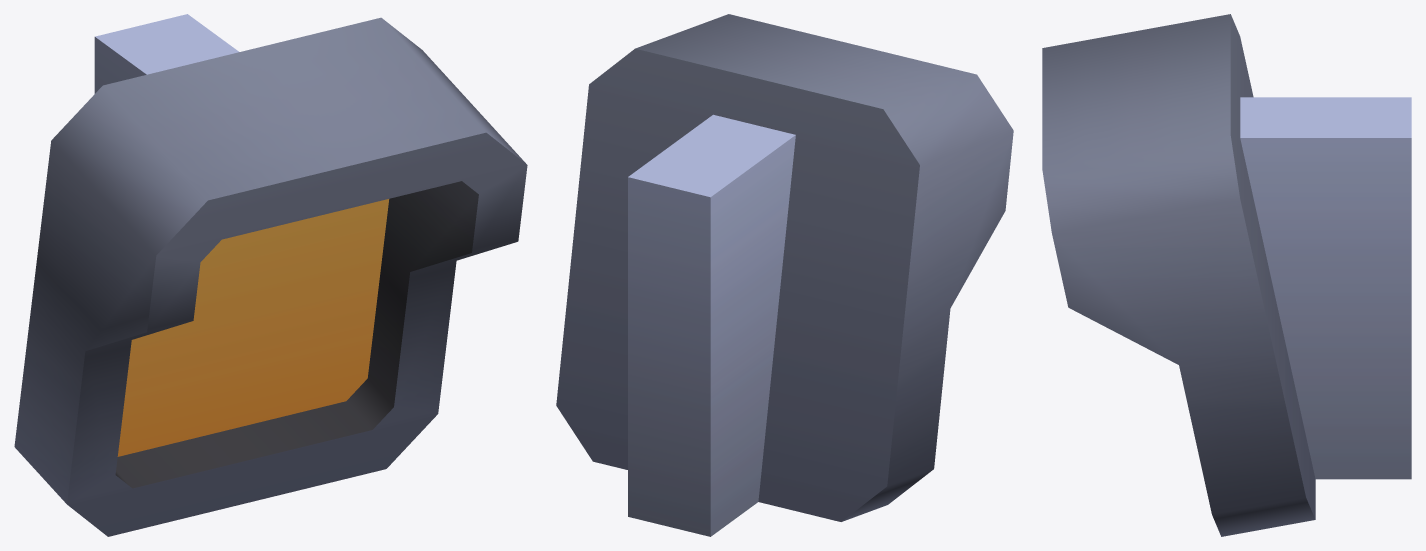
The model's file is kenney-space-station-display-wall.glb.
3 renders of one model, left to right at view 1: azimuth 30°, elevation 25°; view 2: azimuth 150°, elevation 25°; view 3: azimuth 270°, elevation 25°, orthographic. The views are drawn at different scales.
Visible parts, largest first — view 1: display-wall; view 2: display-wall; view 3: display-wall.
Part boxes in pixels (x1=…): display-wall: x1=14, y1=14, x2=527, y2=536; display-wall: x1=556, y1=14, x2=1013, y2=536; display-wall: x1=1042, y1=14, x2=1411, y2=536.
Size of the model in its own units: 0.4 by 0.4609 by 0.3844.
1 material, 1 textured.
